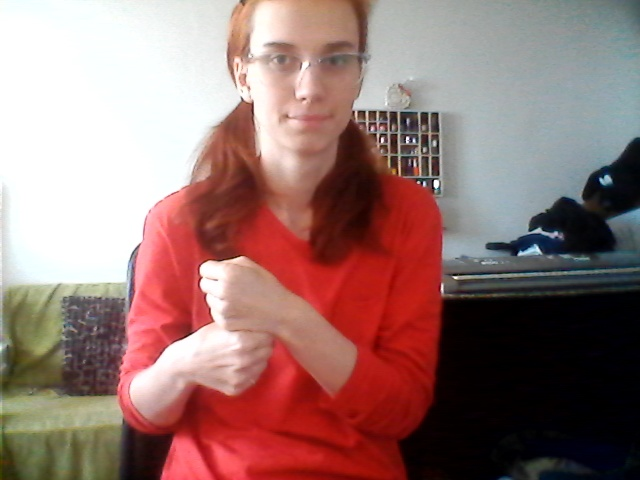g: (185, 252, 285, 405)
